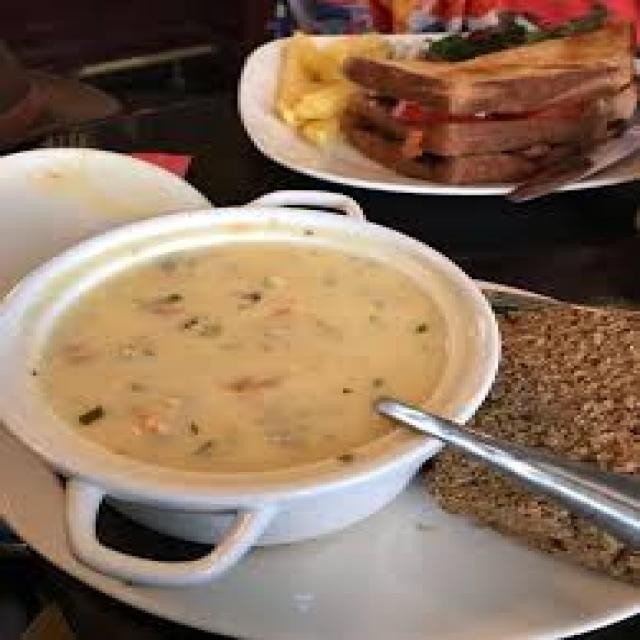French Fries: (251, 22, 386, 146)
Sandwich: (363, 37, 637, 188)
